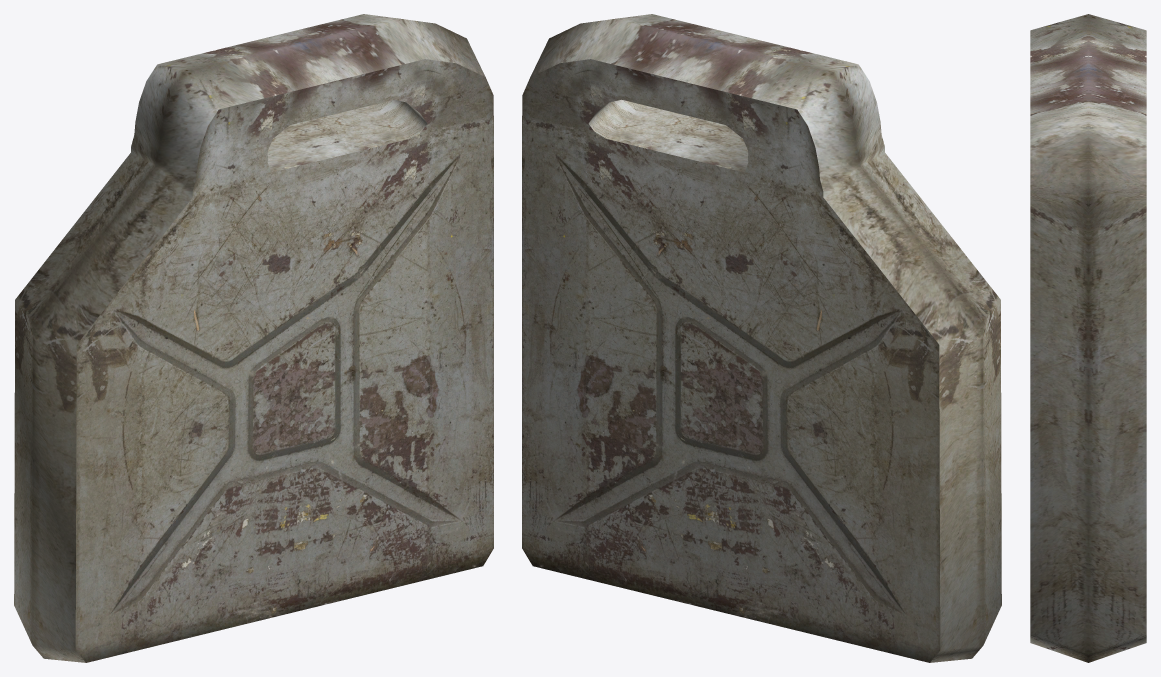
The model's file is FuelCan.obj.
3 views of the same model, side by side, from view 1: azimuth 30°, elevation 25°; view 2: azimuth 150°, elevation 25°; view 3: azimuth 270°, elevation 25° (orthographic). The views are drawn at different scales.
Visible parts, largest first — view 1: FuelCan; view 2: FuelCan; view 3: FuelCan.
Boxes of the visible parts, x1,y1,x2,y2 form: FuelCan: (14,14,493,662); FuelCan: (522,14,1001,662); FuelCan: (1030,14,1146,662).
Size of the model in its own units: 21.56 by 25.68 by 5.19.
Materials: 1 (1 with a texture image).
